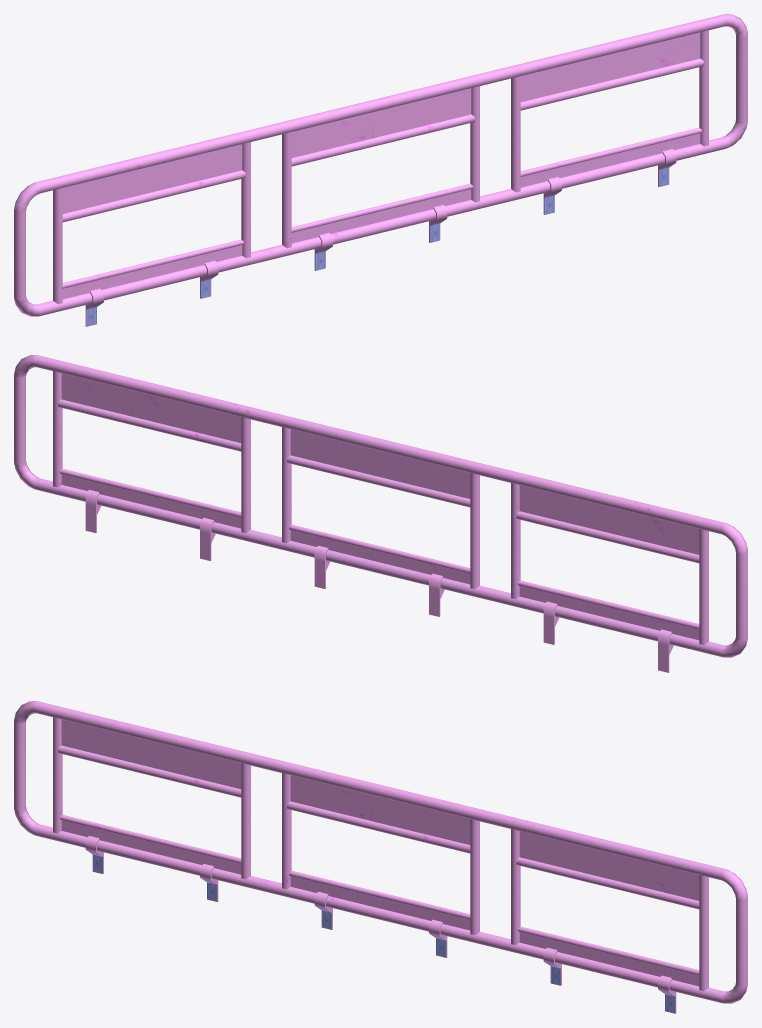
The model's file is Rail_03_SM_Low.fbx.
3 renders of one model, top to bottom at view 1: azimuth 30°, elevation 25°; view 2: azimuth 150°, elevation 25°; view 3: azimuth 330°, elevation 25°, orthographic.
Visible parts, largest first — view 1: ThreeLength; view 2: ThreeLength; view 3: ThreeLength.
Boxes of the visible parts, x1,y1,x2,y2 form: ThreeLength: (14,14,747,326); ThreeLength: (14,355,747,672); ThreeLength: (14,701,747,1013).
Size of the model in its own units: 532 by 111 by 9.76.
1 material, 1 textured.
